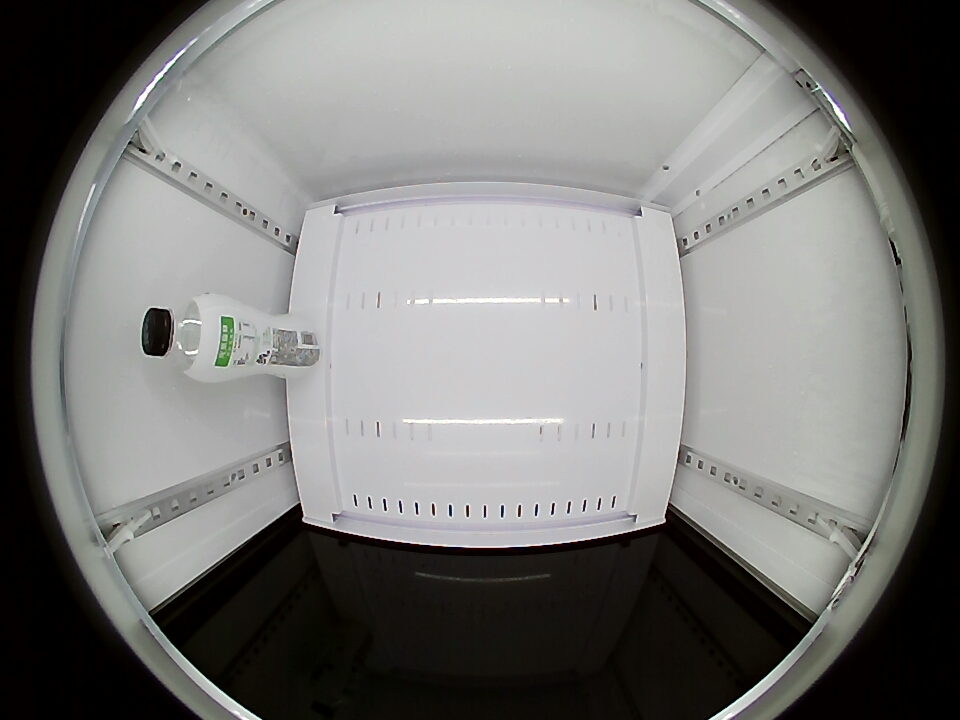yuanqishui: (141, 293, 234, 381)
